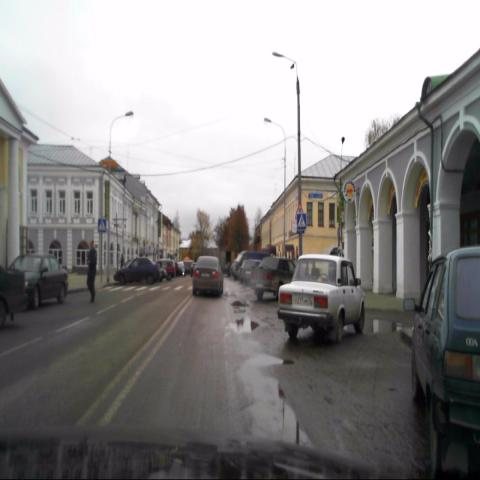5_19_1: (297, 213, 306, 230), (98, 218, 107, 233)
